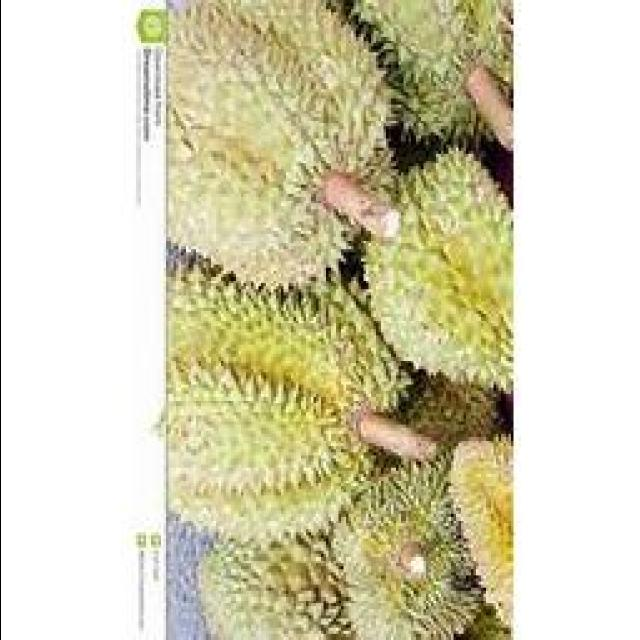fruit: (175, 452, 503, 640)
